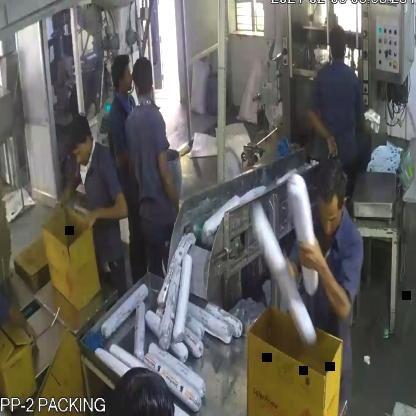no_glove: (298, 220, 356, 335), (8, 286, 53, 344), (158, 136, 188, 222), (302, 104, 338, 164), (84, 195, 135, 230)
